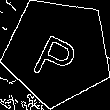P_NE: (30, 21, 85, 83)
